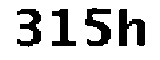1: (49, 6, 81, 52)
3: (9, 5, 46, 51)
5: (83, 5, 116, 51)
h: (117, 6, 154, 49)
